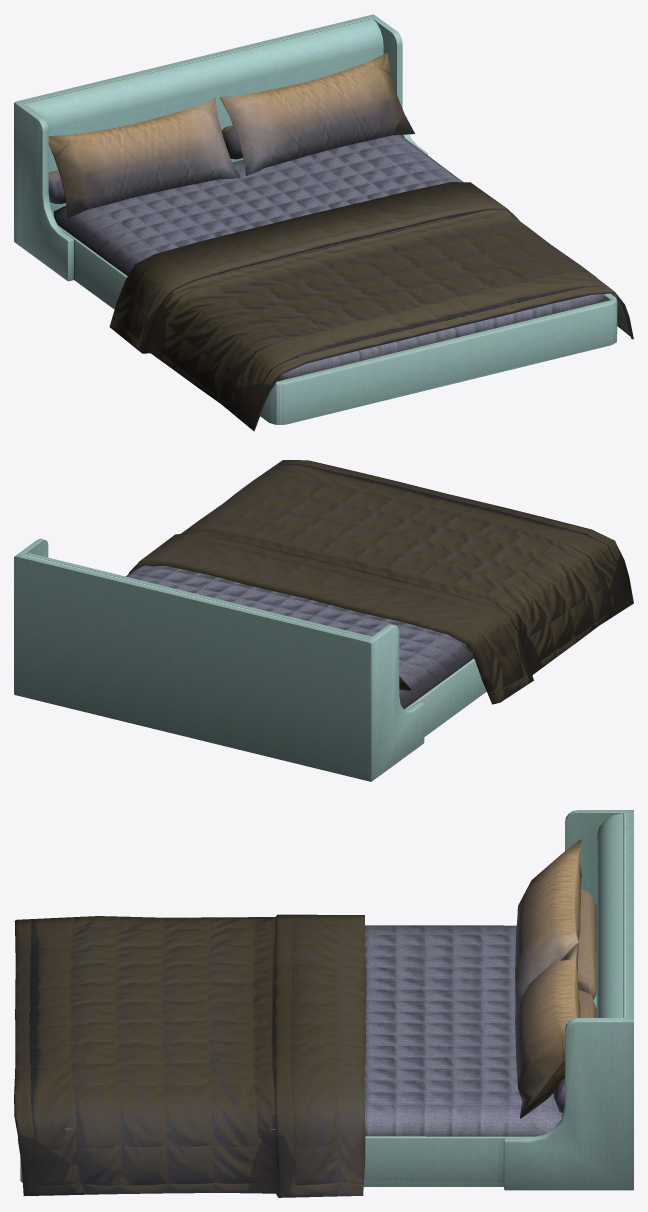
Rendered from Bed_5.fbx.
3 views of the same model, one above another, from view 1: azimuth 30°, elevation 25°; view 2: azimuth 150°, elevation 25°; view 3: azimuth 270°, elevation 25° (orthographic). The views are drawn at different scales.
Visible parts, largest first — view 1: mattres bed 01.006, Cube.003; view 2: mattres bed 01.006, Cube.003; view 3: mattres bed 01.006, Cube.003.
Boxes of the visible parts, bbox=[...] form: mattres bed 01.006: bbox=[48, 53, 633, 431]; Cube.003: bbox=[14, 14, 617, 424]; mattres bed 01.006: bbox=[126, 460, 633, 709]; Cube.003: bbox=[14, 538, 486, 781]; mattres bed 01.006: bbox=[14, 839, 596, 1197]; Cube.003: bbox=[20, 810, 633, 1190].
Bounding box in the file's own units: 202 × 70.41 × 230.
Materials: 2 (2 with a texture image).
